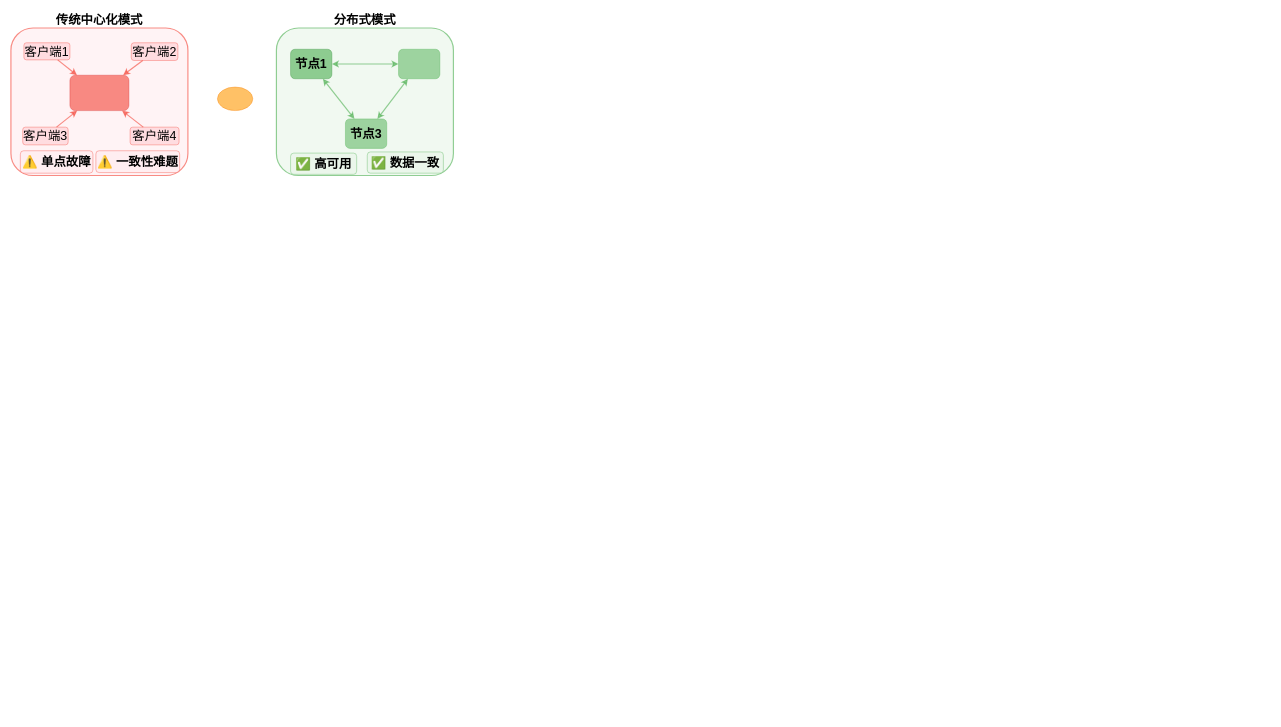
This 1281x727 diagram has some shape labels left out. Each missing label, with the centre of its shape:
"VS" goes at (x=235, y=98).
"节点2" goes at (x=419, y=64).
"调度服务器" goes at (x=99, y=93).
